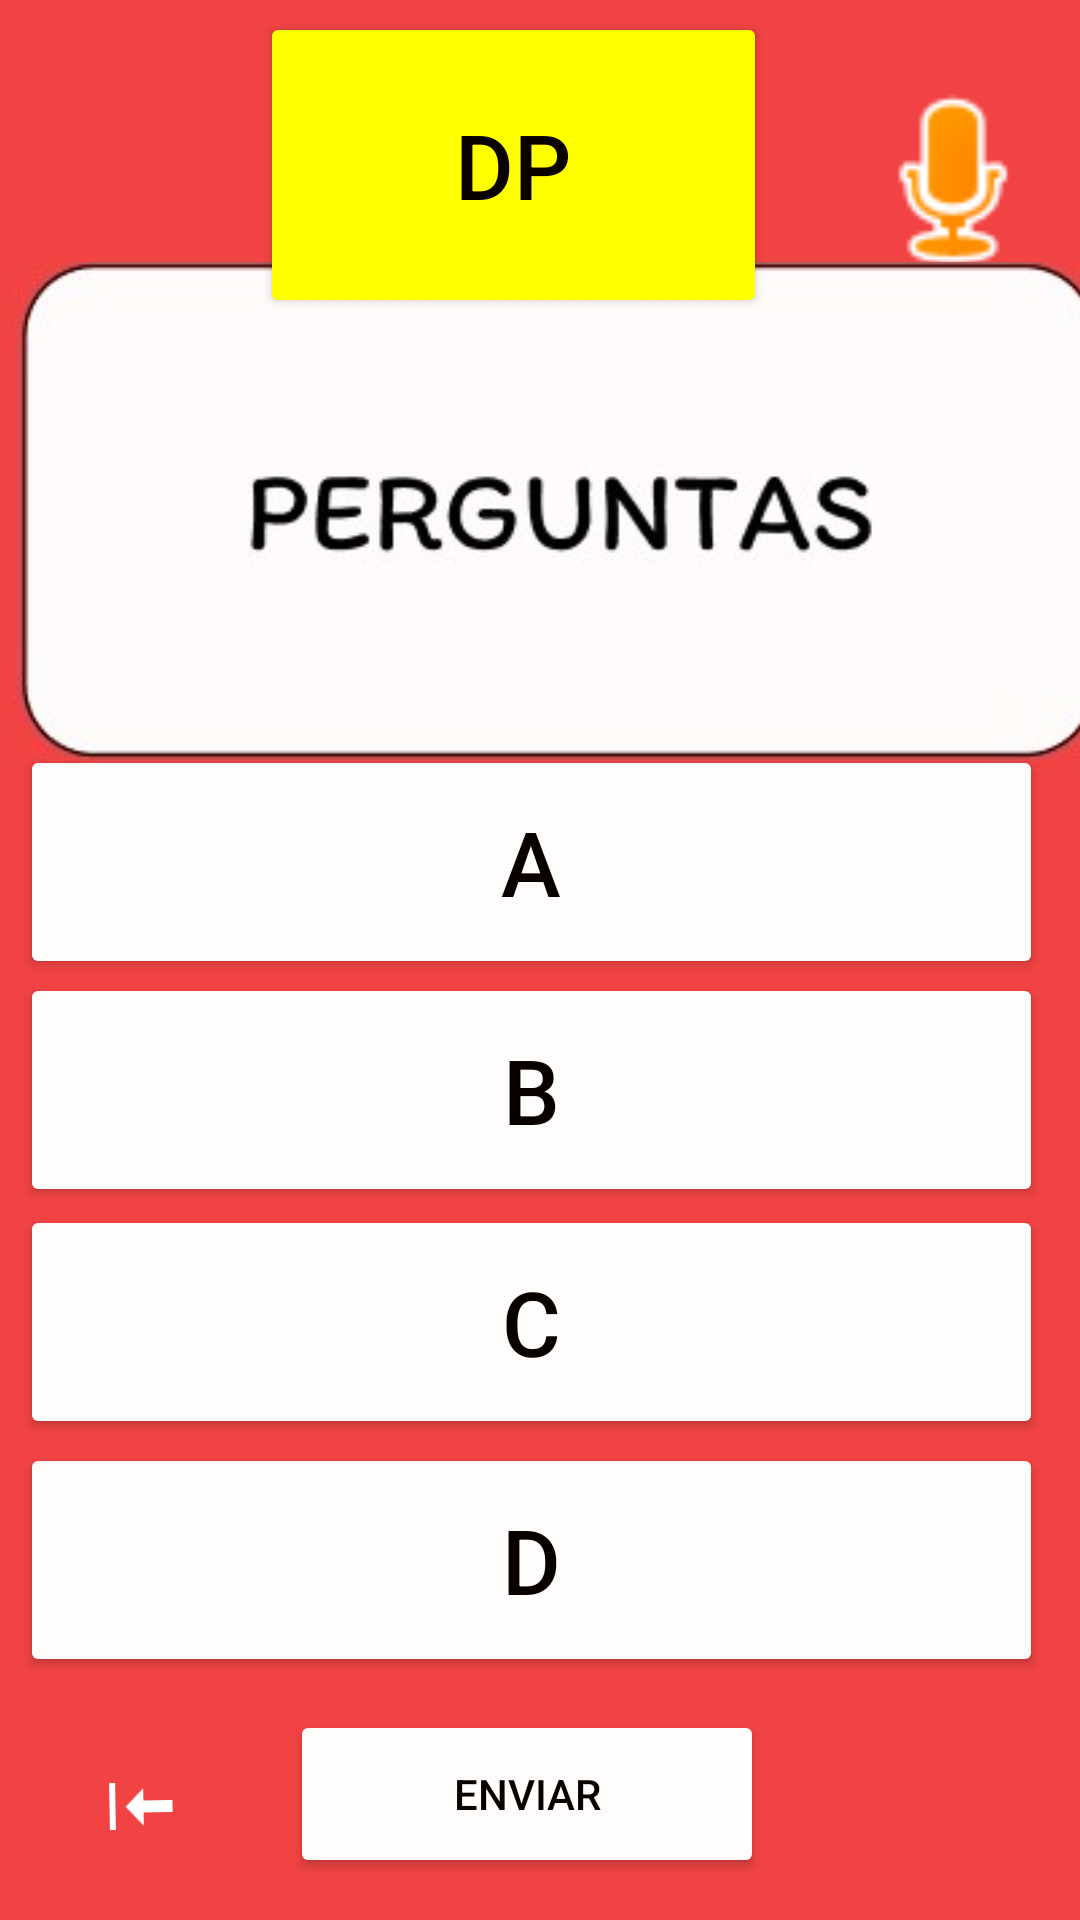

Screen size 1080*1920. Icon name, then its center in pixels as point (x, y):
presence audio away: point (953, 188)
